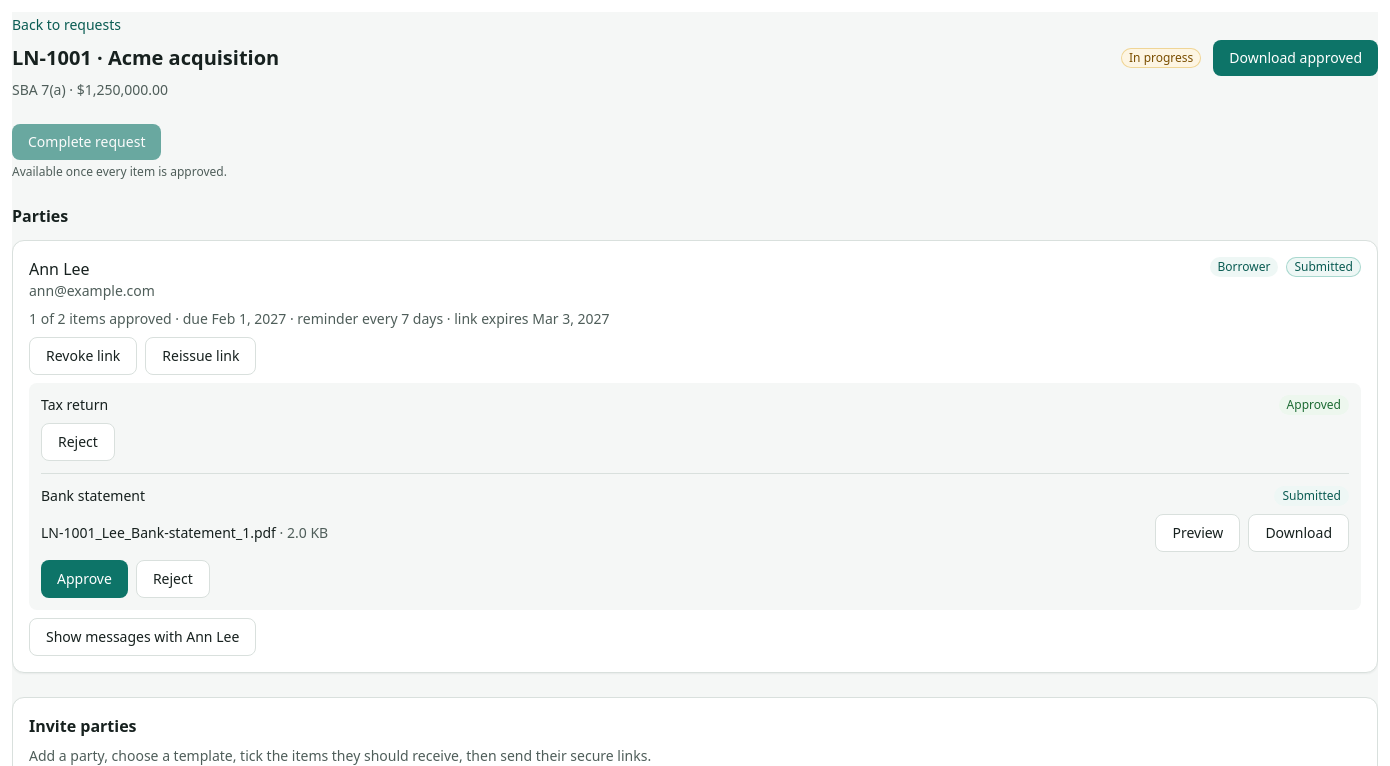
Test: RequestDetailPage › explains when there is nothing approved to export
Click the button "Download approved". click: (1296, 58)
box: [1213,40,1378,76]
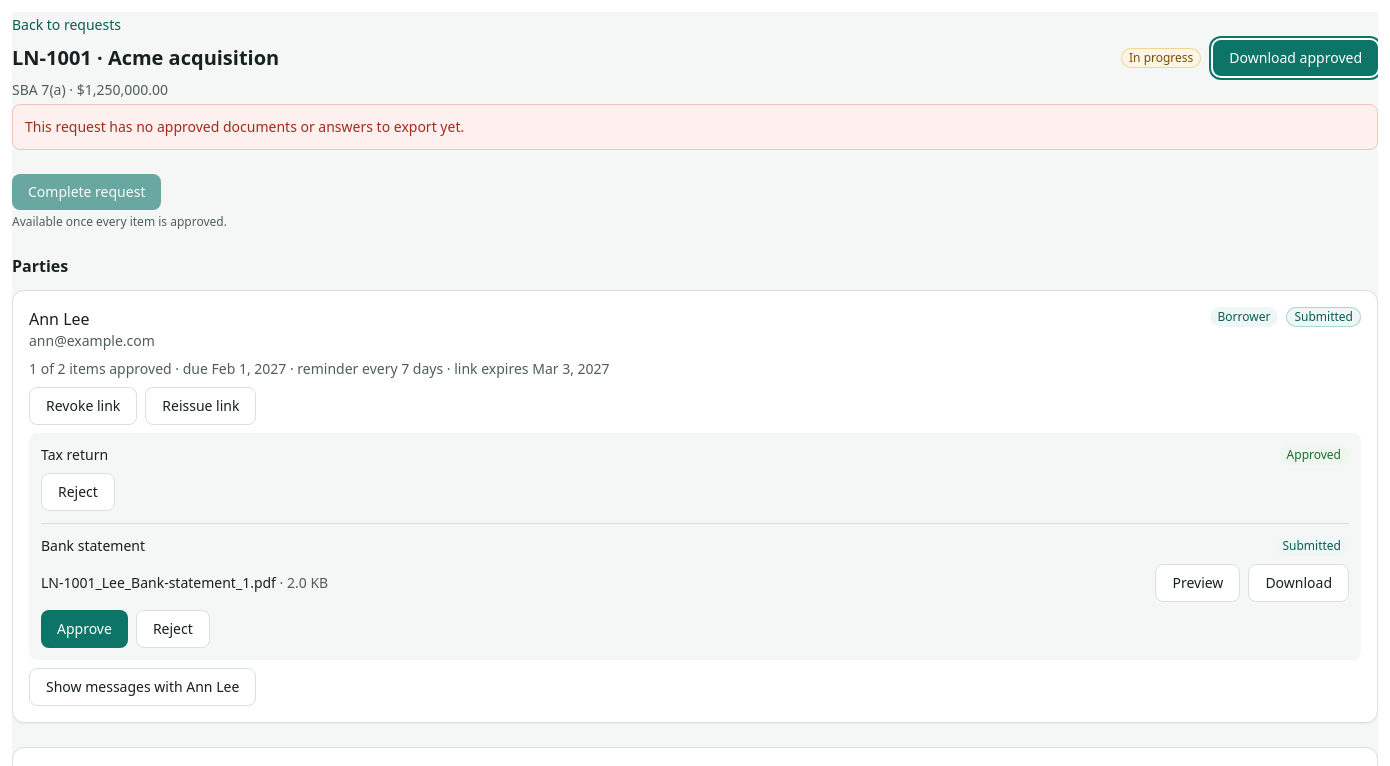
Expected: the list item "no approved documents" is shown, [25,117,464,136]
